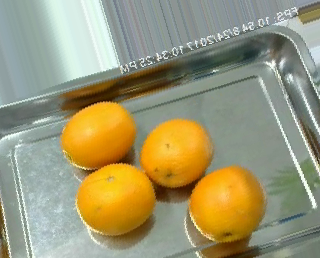Orange: (189, 165, 266, 242), (76, 163, 156, 235), (140, 117, 214, 187), (60, 101, 135, 170)
